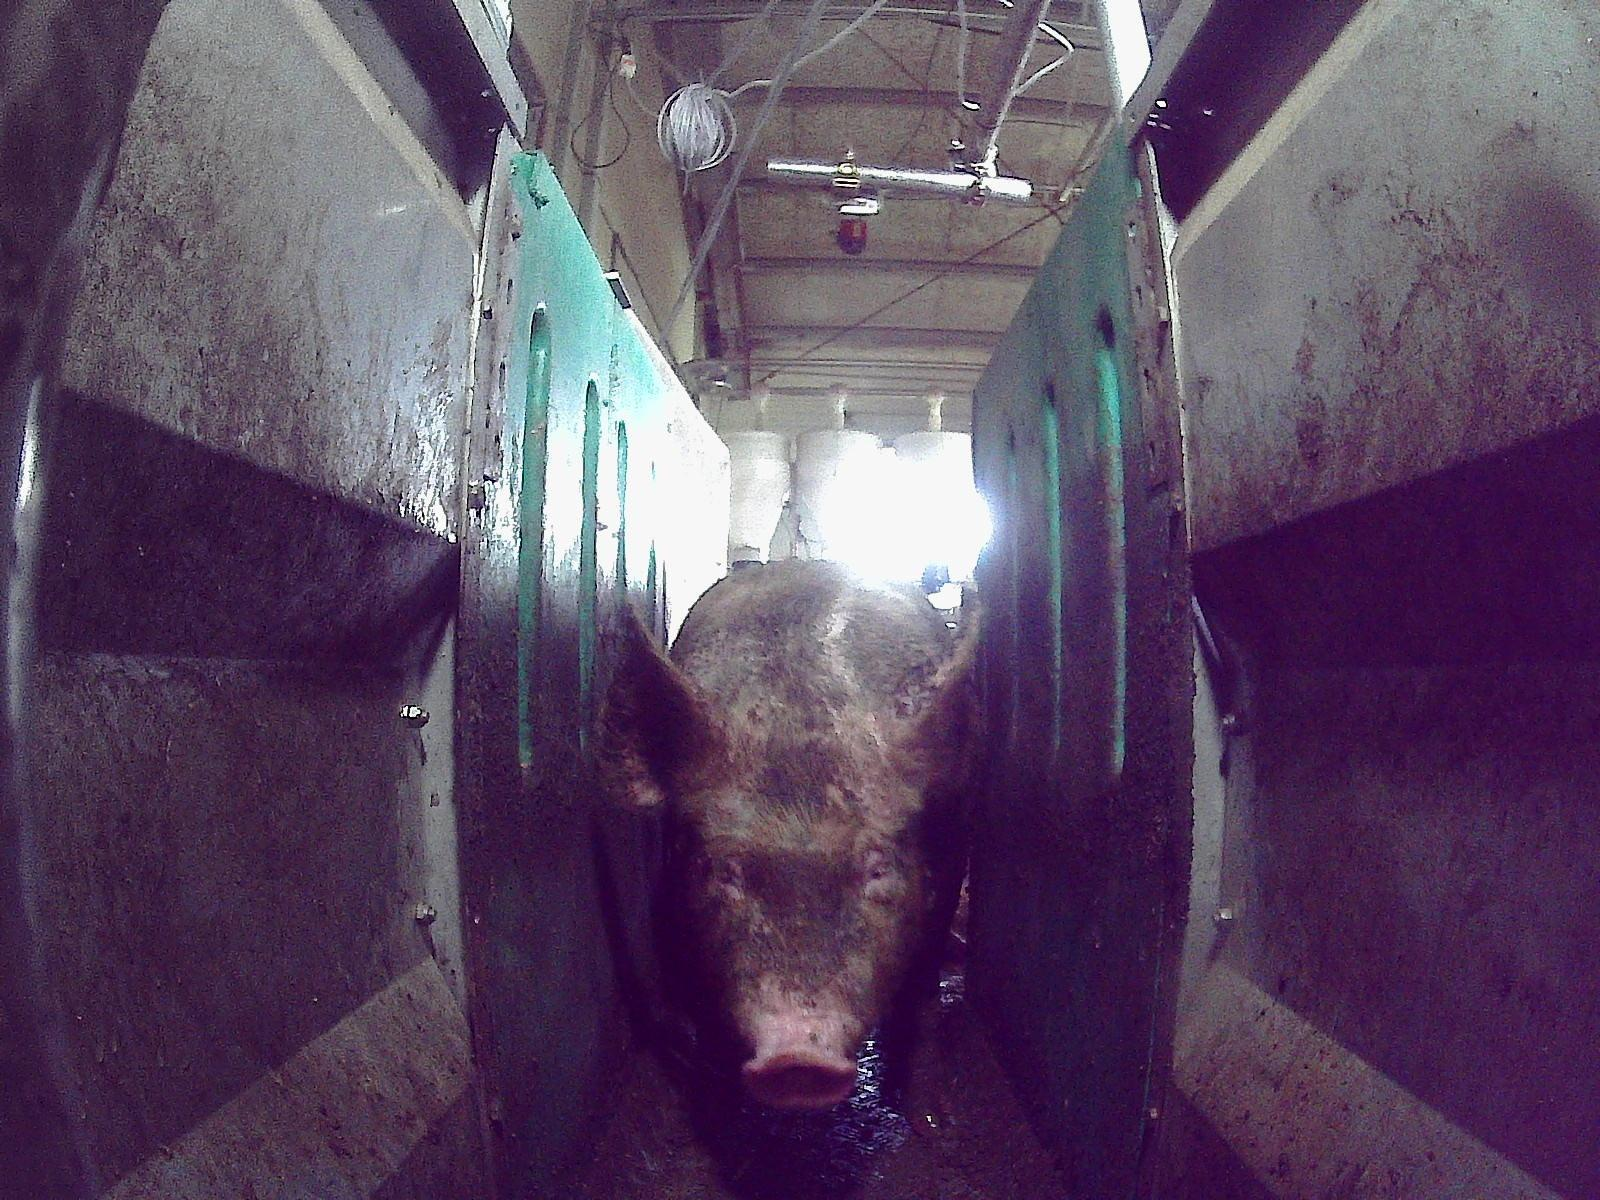Face: (675, 680, 928, 1109)
